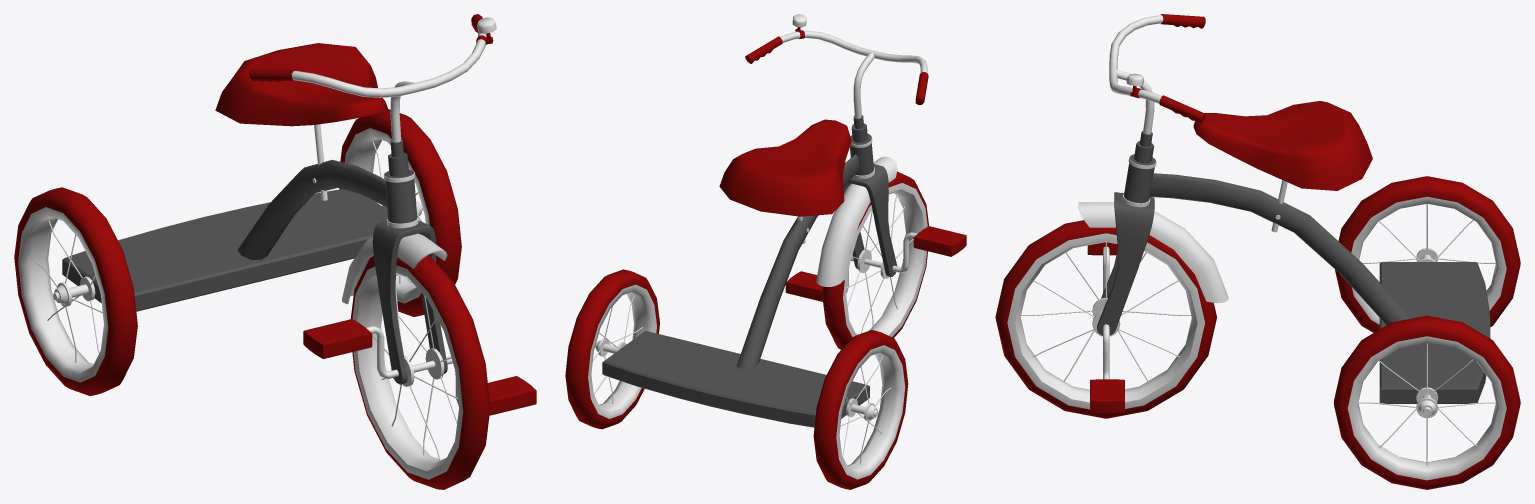
File: ART-MOD-B-TRICYCLE-001.fbx
The picture shows the model from 3 angles, left to right: view 1: azimuth 30°, elevation 25°; view 2: azimuth 150°, elevation 25°; view 3: azimuth 270°, elevation 25°; orthographic projection. The views are drawn at different scales.
Parts seen in each view (by area): view 1: Tricycle_GEO; view 2: Tricycle_GEO; view 3: Tricycle_GEO.
Boxes of the visible parts, x1,y1,x2,y2 form: Tricycle_GEO: (14, 14, 536, 489); Tricycle_GEO: (565, 14, 966, 489); Tricycle_GEO: (995, 14, 1520, 489).
Size of the model in its own units: 84.33 by 94.51 by 119.
